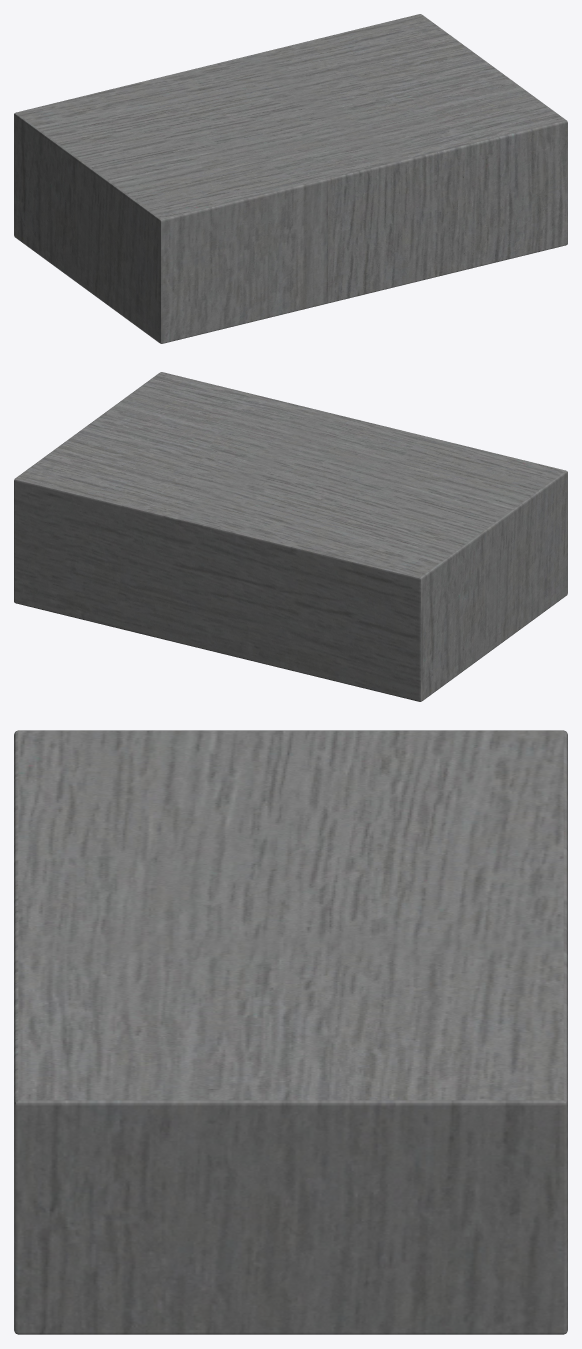
File: WoodBlock.fbx
3 renders of one model, top to bottom at view 1: azimuth 30°, elevation 25°; view 2: azimuth 150°, elevation 25°; view 3: azimuth 270°, elevation 25°, orthographic. The views are drawn at different scales.
Visible parts, largest first — view 1: pCube5; view 2: pCube5; view 3: pCube5.
Part boxes in pixels (x1,y1,x2,y2): pCube5: (14, 14, 567, 343); pCube5: (14, 372, 567, 701); pCube5: (14, 730, 567, 1334).
Bounding box in the file's own units: 400 × 117 × 251.
